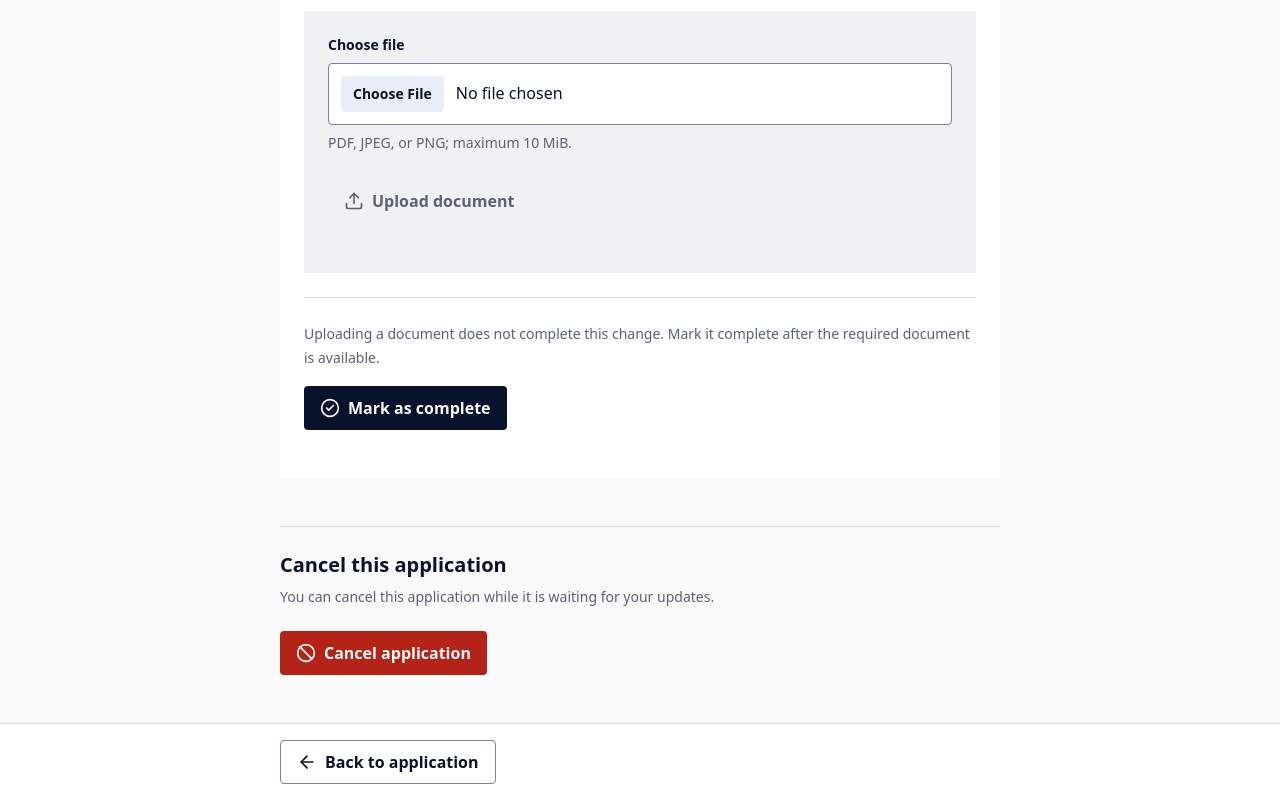
Test: FE-CP8 Customer corrections › reuses one completion identity after an uncertain result and completes only from returned task state
The image size is (1280, 800).
(page scrolled)
Click the button "Mark as complete" at [405, 408], box [304,386,507,430]
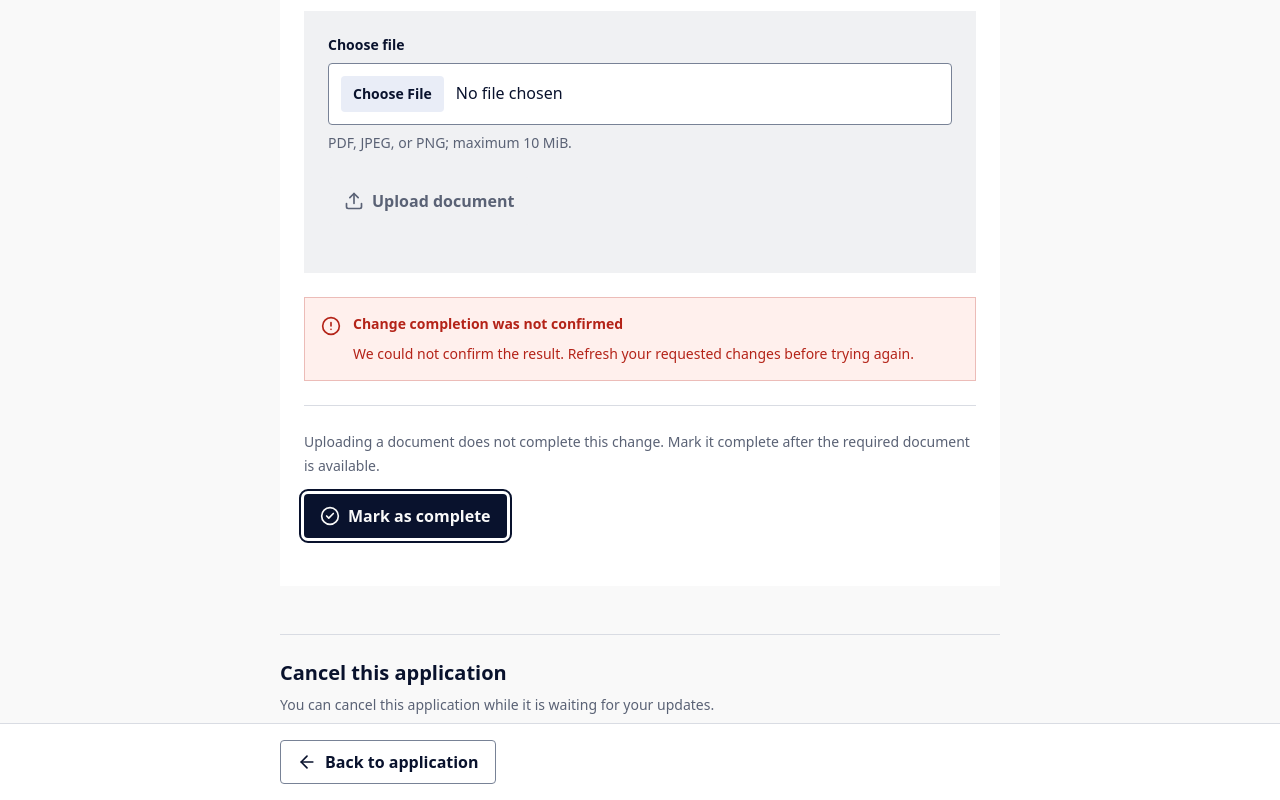
Expected: the text "Refresh your requested changes before trying again" is shown, [353,344,914,363]
Click the button "Mark as complete" at [405, 516], box [304,494,507,538]
(page scrolled)
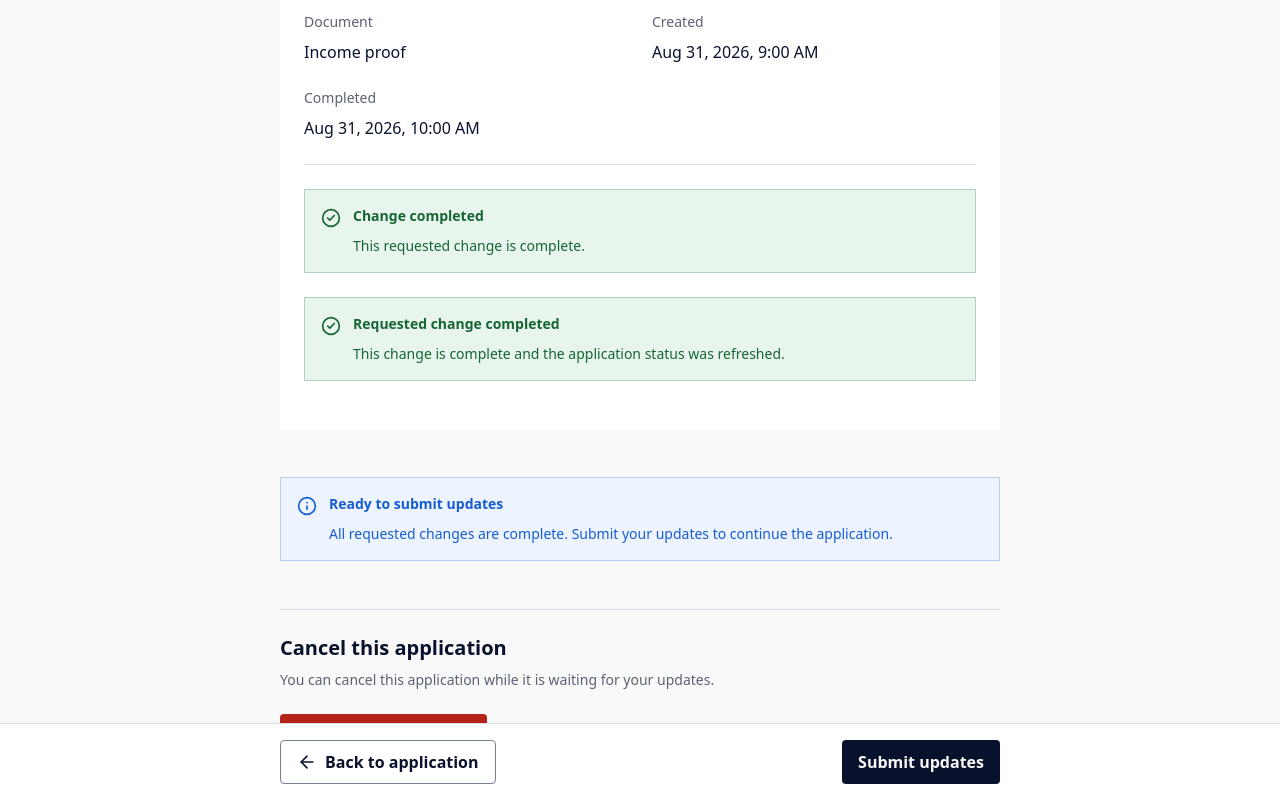
Expected: the text "This requested change is complete." is shown, [353,236,585,255]
